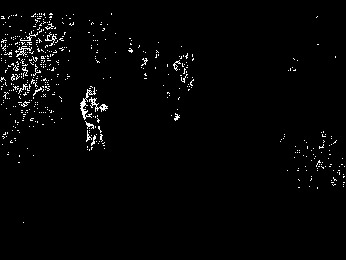person: (72, 83, 113, 153)
